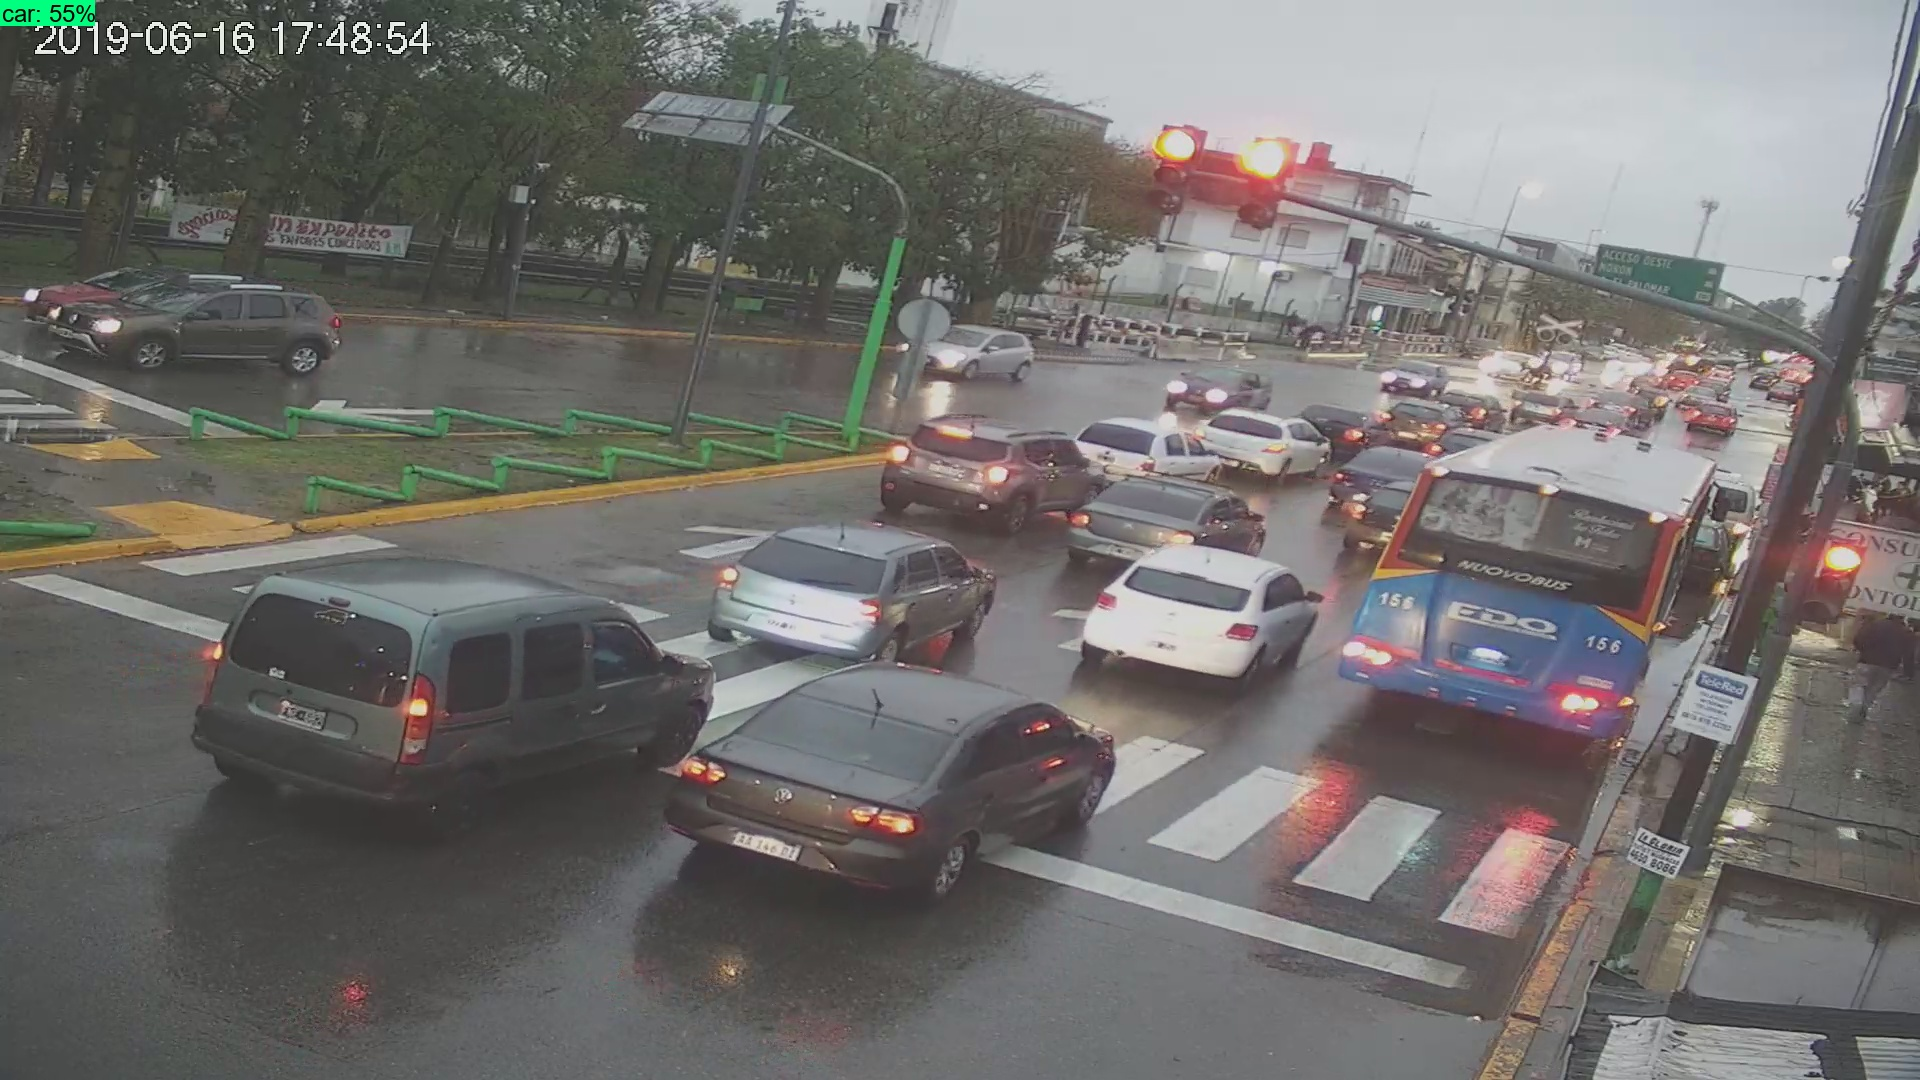bus: (1340, 434, 1729, 767)
car: (181, 564, 725, 845), (654, 630, 1120, 905), (704, 506, 1000, 671), (1062, 529, 1325, 695), (873, 414, 1106, 543), (61, 284, 352, 382), (893, 307, 1044, 389), (1159, 353, 1276, 418)
